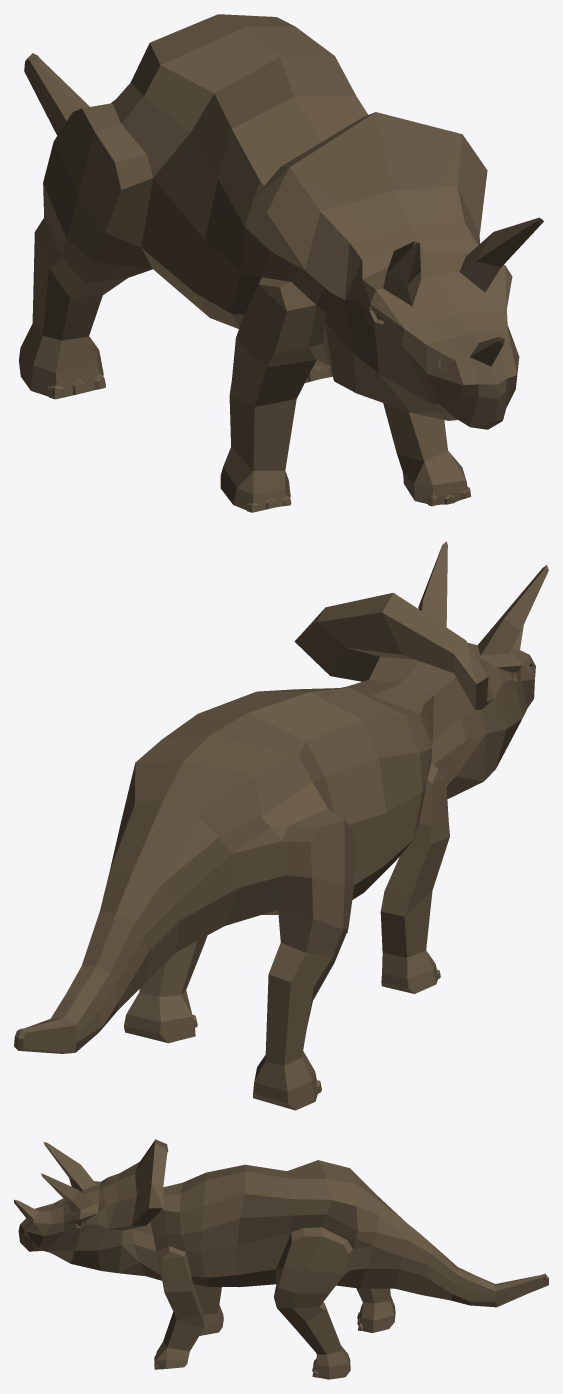
File: Triceratops.fbx
3 views of the same model, one above another, from view 1: azimuth 30°, elevation 25°; view 2: azimuth 150°, elevation 25°; view 3: azimuth 270°, elevation 25° (orthographic). The views are drawn at different scales.
Parts seen in each view (by area): view 1: Triceratops; view 2: Triceratops; view 3: Triceratops.
Boxes of the visible parts, x1,y1,x2,y2 form: Triceratops: [19, 14, 543, 512]; Triceratops: [14, 541, 548, 1110]; Triceratops: [14, 1139, 548, 1379].
Size of the model in its own units: 585 by 887 by 2098.
